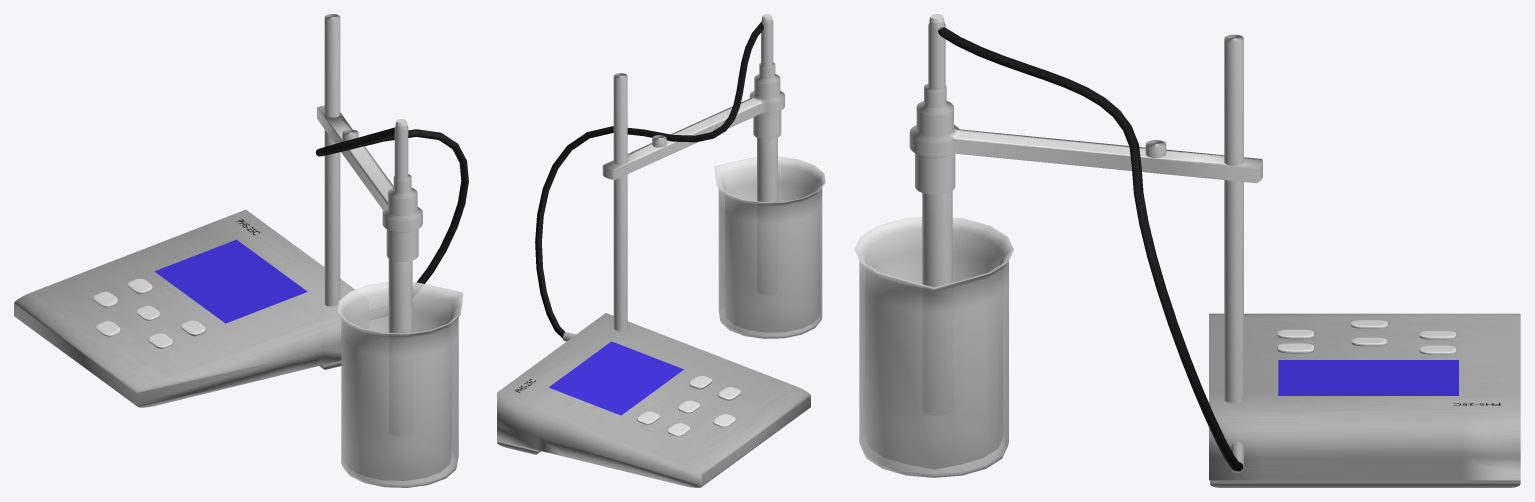
File: pHmeter.fbx
3 renders of one model, left to right at view 1: azimuth 30°, elevation 25°; view 2: azimuth 150°, elevation 25°; view 3: azimuth 270°, elevation 25°, orthographic. The views are drawn at different scales.
Visible parts, largest first — view 1: Cube, beaker.001, Cylinder.002, Plane, BézierCurve; view 2: Cube, beaker.001, Cylinder.002, Plane, BézierCurve; view 3: Cube, beaker.001, Cylinder.002, Plane, BézierCurve.
Boxes of the visible parts, x1,y1,x2,y2 form: Cube: (14, 209, 354, 407); beaker.001: (337, 282, 463, 487); Cylinder.002: (317, 14, 422, 333); Plane: (154, 239, 307, 323); BézierCurve: (315, 127, 468, 283); Cube: (497, 313, 810, 487); beaker.001: (714, 156, 825, 338); Cylinder.002: (602, 14, 784, 331); Plane: (549, 341, 683, 415); BézierCurve: (535, 22, 763, 338); Cube: (1209, 313, 1520, 487); beaker.001: (854, 217, 1013, 477); Cylinder.002: (909, 14, 1262, 402); Plane: (1278, 360, 1458, 395); BézierCurve: (938, 27, 1243, 471).
Bounding box in the file's own units: 213 × 225 × 305.
